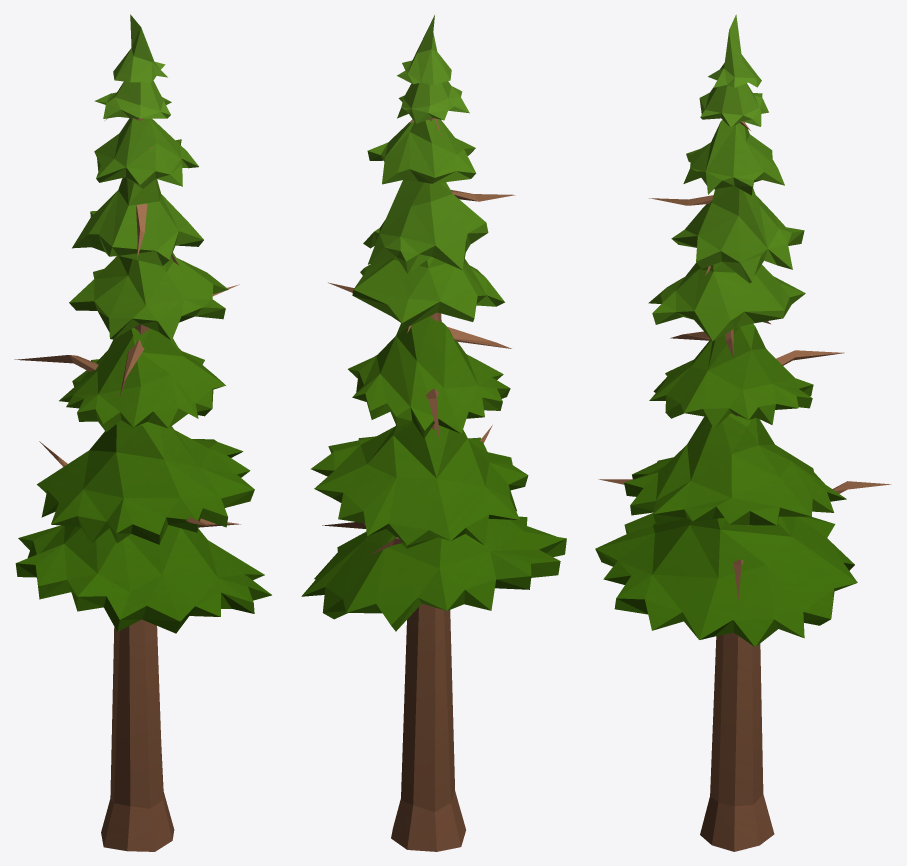
File: Tree_Pine_04.fbx
3 views of the same model, side by side, from view 1: azimuth 30°, elevation 25°; view 2: azimuth 150°, elevation 25°; view 3: azimuth 270°, elevation 25° (orthographic).
Visible parts, largest first — view 1: Tree_Pine_04; view 2: Tree_Pine_04; view 3: Tree_Pine_04.
Part boxes in pixels (x1=…): Tree_Pine_04: x1=14, y1=14, x2=271, y2=851; Tree_Pine_04: x1=301, y1=15, x2=566, y2=851; Tree_Pine_04: x1=595, y1=14, x2=891, y2=851.
Bounding box in the file's own units: 405 × 1421 × 468.
